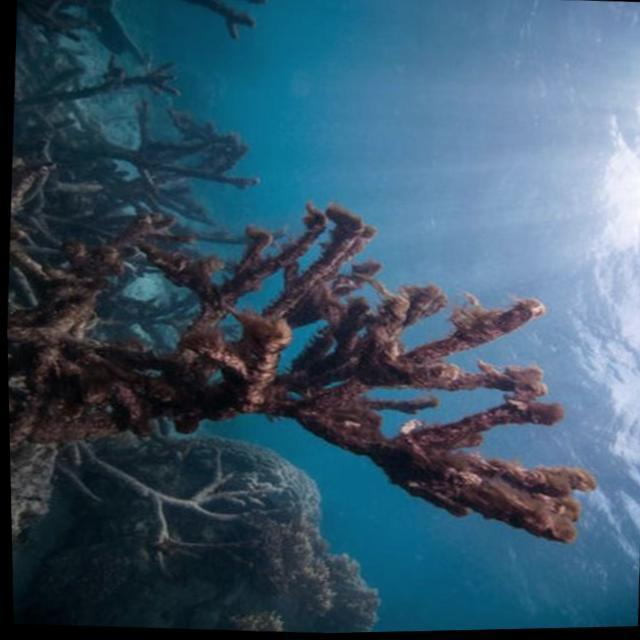Dead Coral: (32, 166, 618, 575)
